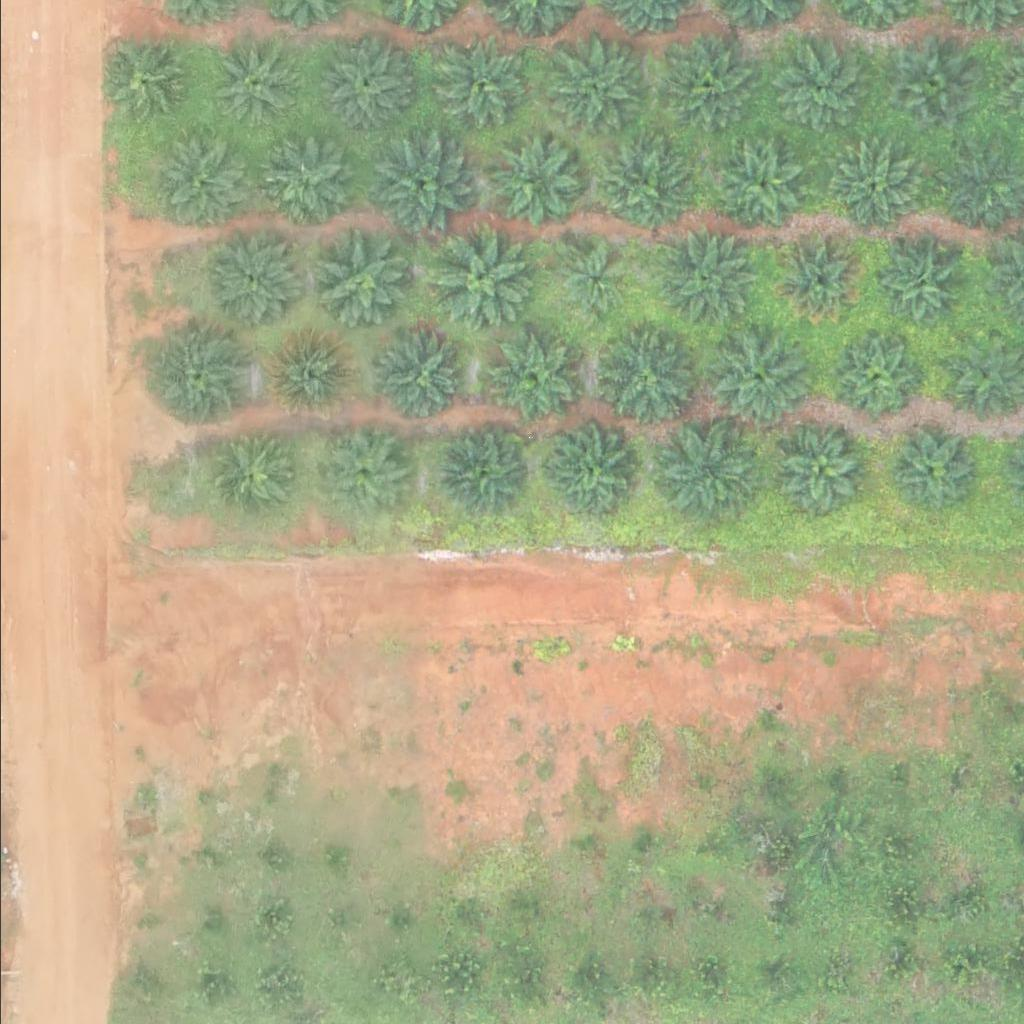Kelapa_Sawit: (427, 235, 528, 335), (707, 135, 808, 235), (591, 136, 692, 236), (367, 134, 468, 234), (771, 41, 872, 141), (654, 38, 755, 138), (545, 37, 646, 137), (428, 36, 529, 136), (312, 34, 413, 134), (154, 131, 255, 231), (306, 233, 407, 333), (202, 231, 303, 331), (148, 330, 249, 430), (658, 420, 758, 520), (706, 325, 806, 425), (592, 327, 692, 427), (654, 230, 754, 330), (884, 44, 972, 132), (885, 429, 973, 517), (775, 430, 863, 518), (488, 337, 576, 425), (378, 331, 466, 419), (828, 144, 916, 232), (211, 42, 299, 130), (101, 39, 189, 127), (267, 331, 355, 419), (204, 436, 292, 524), (871, 240, 959, 327), (538, 430, 626, 517), (441, 431, 529, 518), (315, 430, 403, 517), (832, 332, 920, 419), (774, 236, 862, 323), (492, 139, 580, 226), (264, 146, 352, 233), (550, 242, 626, 317)
